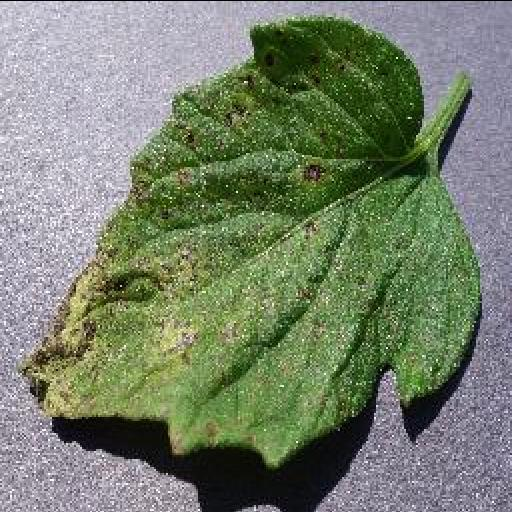disease_tomato: (18, 16, 484, 466)
